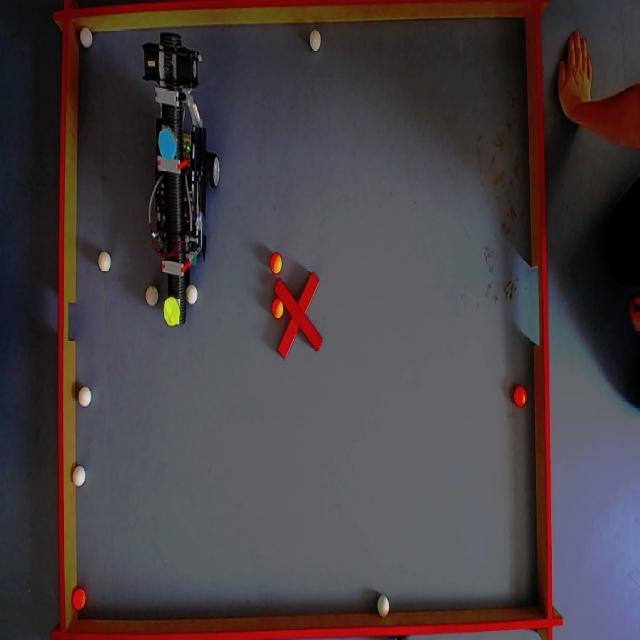orange: (70, 584, 86, 612), (512, 387, 526, 408), (270, 255, 284, 274), (272, 302, 282, 319)
robot: (140, 38, 220, 314)
robot-front: (162, 299, 182, 325)
robot-rear: (156, 127, 178, 159)
white: (376, 594, 390, 617), (72, 464, 85, 488), (308, 28, 321, 52), (80, 27, 94, 48), (80, 388, 93, 410), (146, 286, 159, 308), (97, 253, 111, 273), (187, 286, 199, 306)
